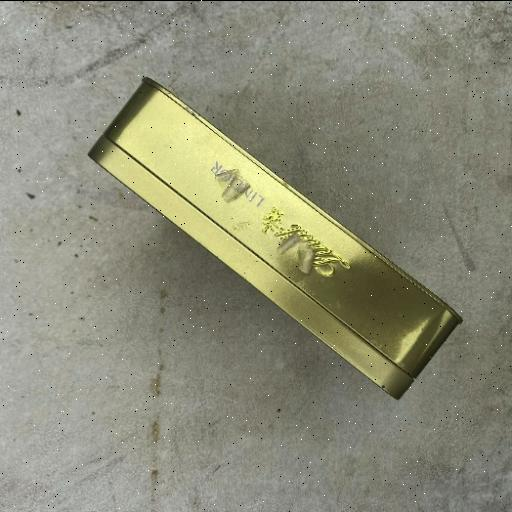Metal: (86, 76, 464, 402)
